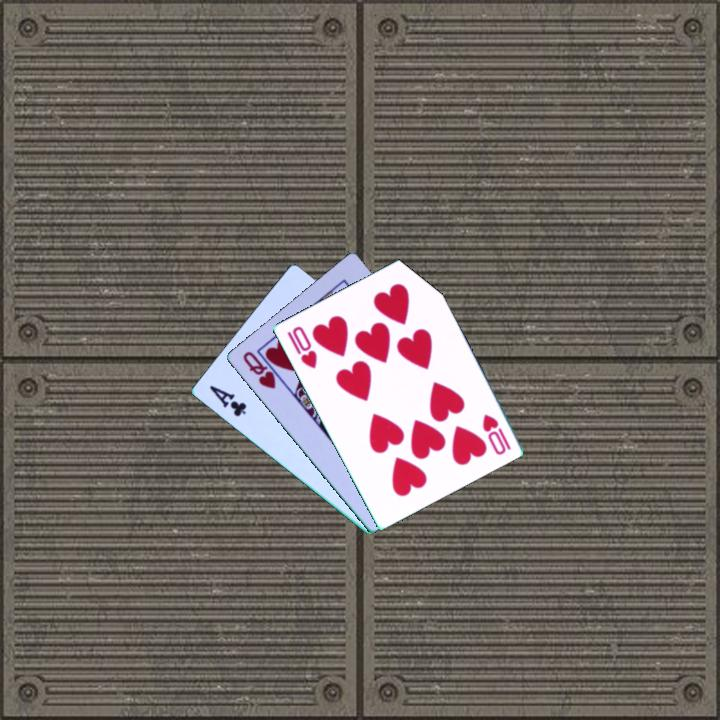10h: (283, 322, 320, 372), (478, 410, 514, 458)
Ac: (205, 382, 249, 420)
Qh: (239, 348, 278, 392)
